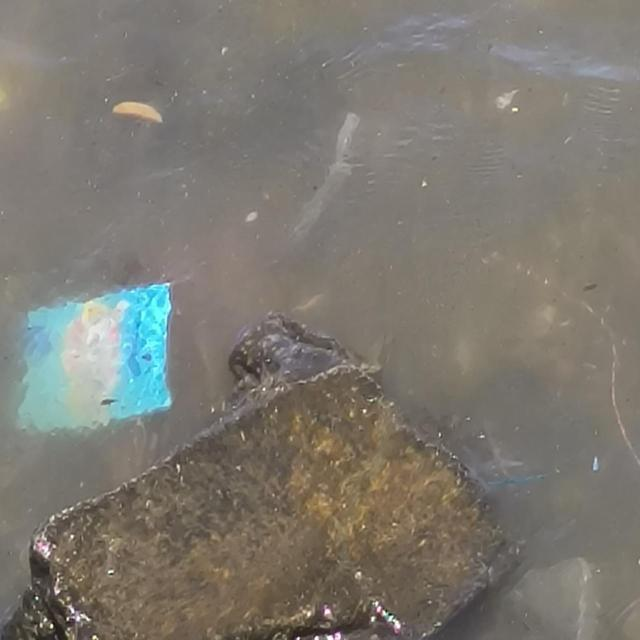plastic_waste: (18, 282, 175, 434)
